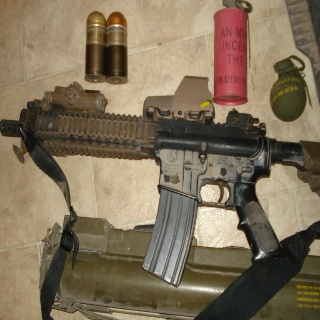rifle: (1, 80, 320, 290)
